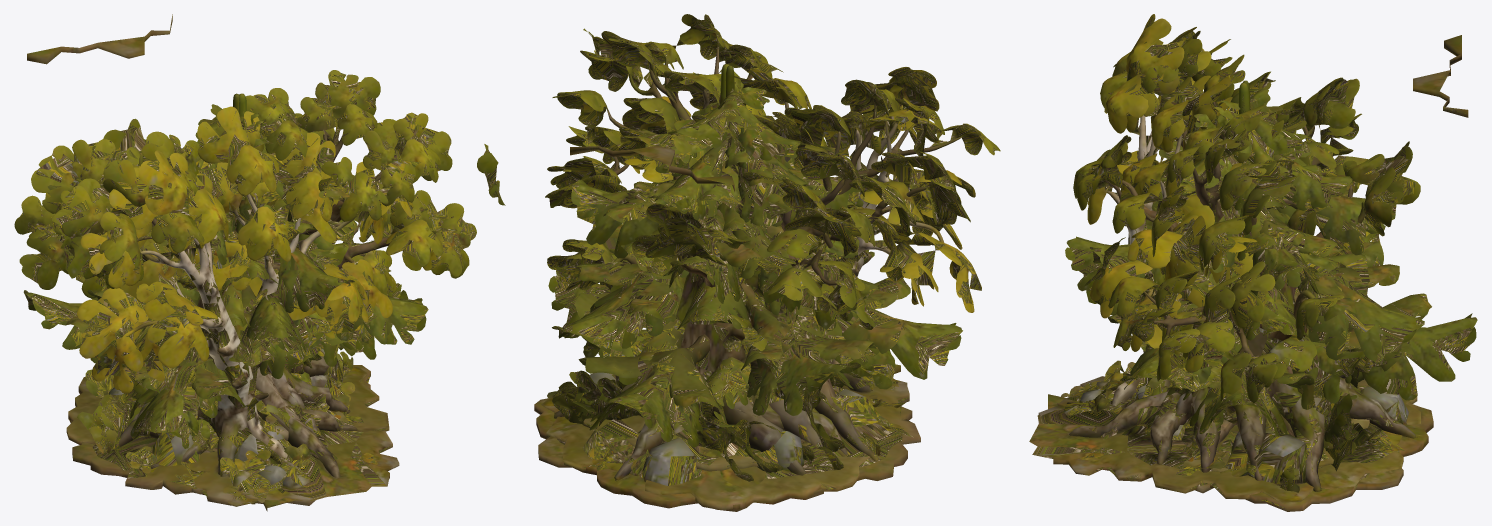
3 views of the same model, side by side, from view 1: azimuth 30°, elevation 25°; view 2: azimuth 150°, elevation 25°; view 3: azimuth 270°, elevation 25° (orthographic). The views are drawn at different scales.
Parts seen in each view (by area): view 1: tree_2_full, tree_3_full, tree_0_full, tree_2_far, tree_0_far, tree_2_mid, tree_3_mid, tree_3_far, tree_0_mid, tree_1_full, tree_1_far, tree_1_mid; view 2: tree_0_full, tree_3_full, tree_3_far, tree_0_far, tree_2_full, tree_2_far, tree_3_mid, tree_1_full, tree_0_mid, tree_2_mid, tree_1_far, tree_1_mid; view 3: tree_3_full, tree_0_full, tree_2_full, tree_3_far, tree_0_far, tree_3_mid, tree_1_full, tree_0_mid, tree_2_far, tree_2_mid, tree_1_far, tree_1_mid.
Boxes of the visible parts, box(x1,y1,x2,y2) form: tree_2_full: box(27, 14, 505, 505); tree_3_full: box(14, 70, 476, 439); tree_0_full: box(24, 93, 427, 511); tree_2_far: box(81, 19, 500, 498); tree_0_far: box(24, 126, 425, 504); tree_2_mid: box(82, 113, 499, 498); tree_3_mid: box(20, 72, 470, 435); tree_3_far: box(22, 73, 475, 447); tree_0_mid: box(24, 113, 428, 507); tree_1_full: box(135, 93, 362, 421); tree_1_far: box(137, 123, 356, 389); tree_1_mid: box(135, 106, 360, 387); tree_0_full: box(541, 65, 962, 510); tree_3_full: box(534, 14, 1000, 511); tree_3_far: box(545, 18, 982, 485); tree_0_far: box(548, 88, 961, 478); tree_2_full: box(570, 28, 981, 480); tree_2_far: box(572, 33, 981, 466); tree_3_mid: box(545, 14, 997, 481); tree_1_full: box(582, 64, 879, 471); tree_0_mid: box(548, 79, 962, 490); tree_2_mid: box(584, 29, 980, 456); tree_1_far: box(586, 88, 871, 467); tree_1_mid: box(583, 86, 875, 465); tree_3_full: box(1073, 27, 1433, 511); tree_0_full: box(1029, 80, 1477, 502); tree_2_full: box(1038, 14, 1468, 416); tree_3_far: box(1089, 32, 1417, 508); tree_0_far: box(1032, 106, 1471, 495); tree_3_mid: box(1074, 27, 1418, 489); tree_1_full: box(1141, 83, 1370, 472); tree_0_mid: box(1037, 93, 1476, 498); tree_2_far: box(1067, 21, 1466, 412); tree_2_mid: box(1066, 17, 1244, 412); tree_1_far: box(1143, 108, 1367, 464); tree_1_mid: box(1141, 95, 1370, 471).
Size of the model in its own units: 1.22 by 1 by 1.16.
1 material, 1 textured.
